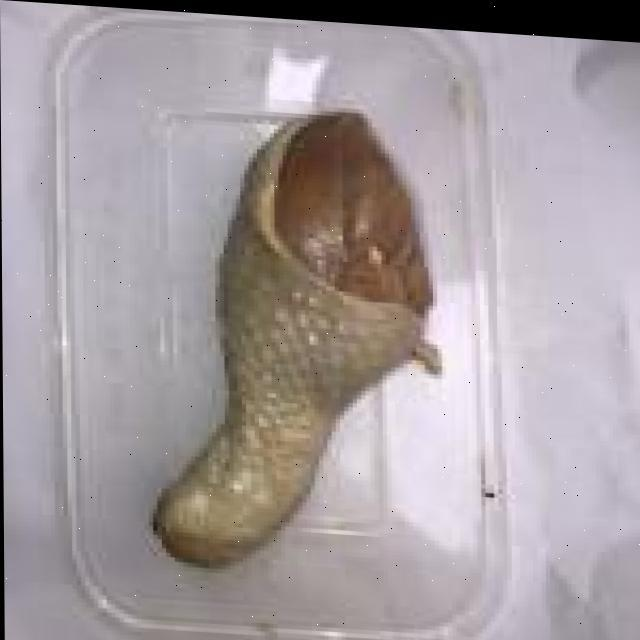leg: (154, 94, 453, 580)
